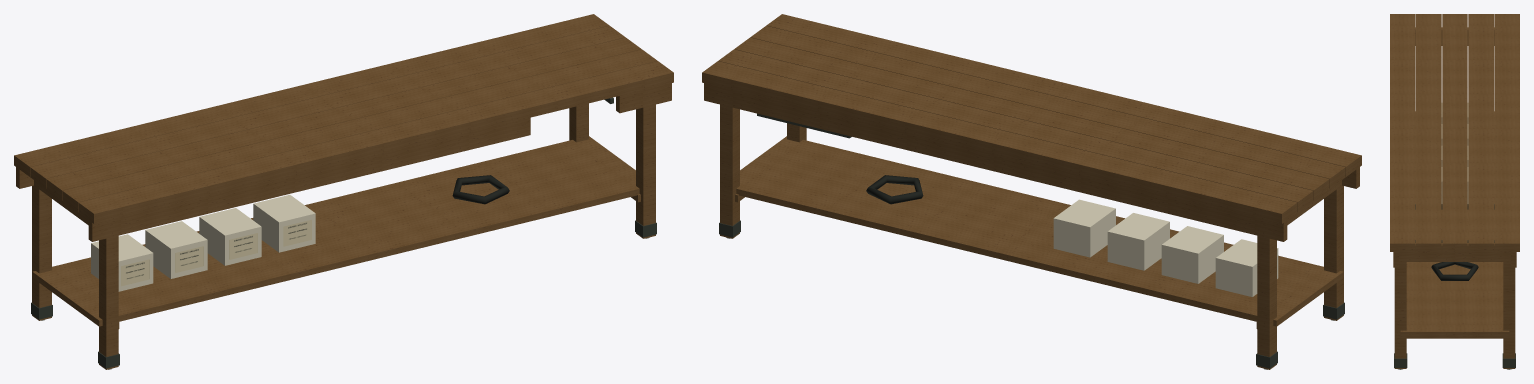
File: SM_FieldKit_TimingBench_LOD2.glb
3 views of the same model, side by side, from view 1: azimuth 30°, elevation 25°; view 2: azimuth 150°, elevation 25°; view 3: azimuth 270°, elevation 25° (orthographic). The views are drawn at different scales.
Parts seen in each view (by area): view 1: SM_FieldKit_TimingBench_LOD2; view 2: SM_FieldKit_TimingBench_LOD2; view 3: SM_FieldKit_TimingBench_LOD2.
Boxes of the visible parts, box(x1,y1,x2,y2) form: SM_FieldKit_TimingBench_LOD2: box(14, 14, 673, 369); SM_FieldKit_TimingBench_LOD2: box(702, 14, 1361, 369); SM_FieldKit_TimingBench_LOD2: box(1390, 14, 1519, 369).
Bounding box in the file's own units: 3 × 0.812 × 0.717.
6 materials, 3 textured.
